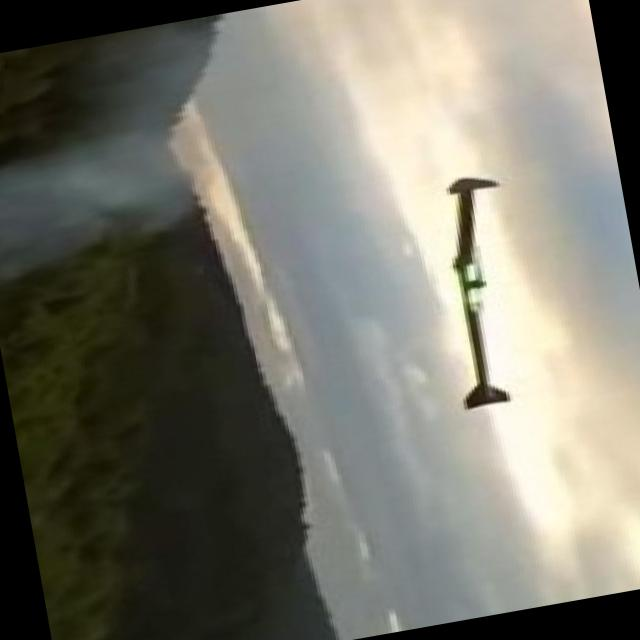UAV: (406, 178, 554, 466)
